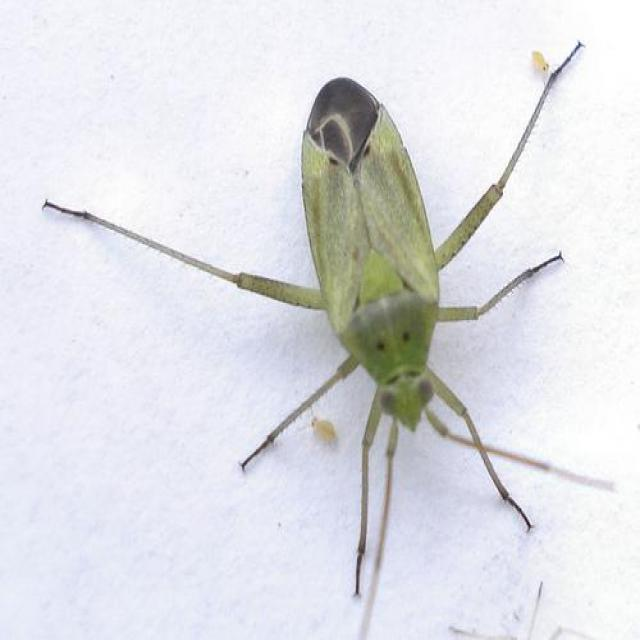Miridae-Adult-: (52, 42, 585, 552)
